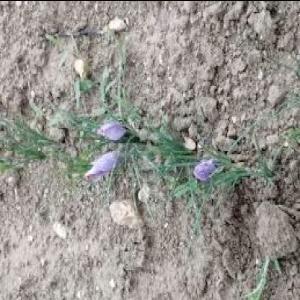Saffron: (86, 148, 120, 177), (188, 155, 220, 178), (96, 120, 130, 140)
